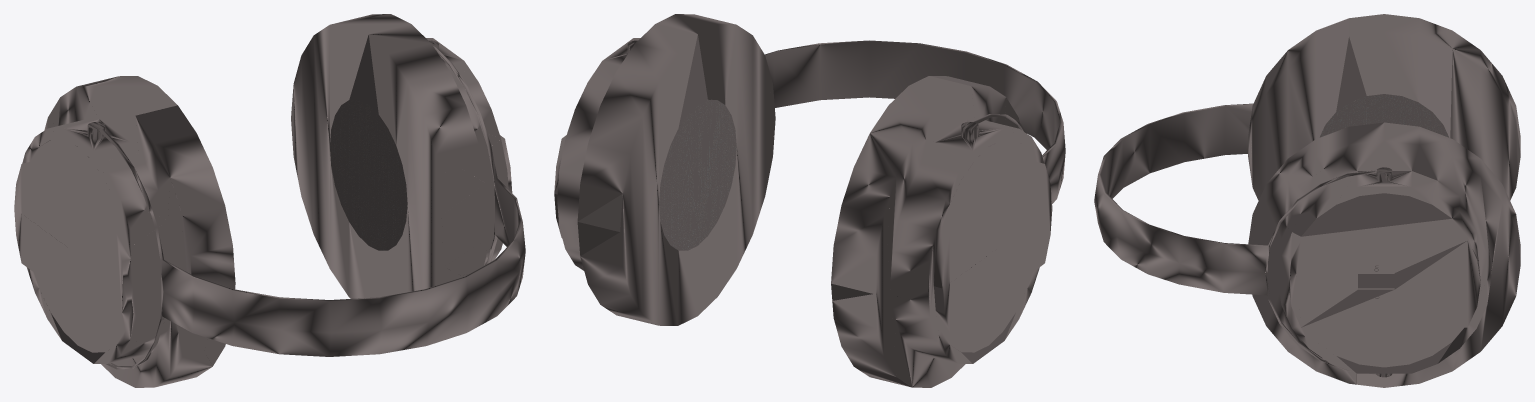
The model's file is model_align.obj.
3 views of the same model, side by side, from view 1: azimuth 30°, elevation 25°; view 2: azimuth 150°, elevation 25°; view 3: azimuth 270°, elevation 25° (orthographic). The views are drawn at different scales.
Bounding box in the file's own units: 0.1339 × 0.0924 × 0.1445.
7 materials, 7 textured.
